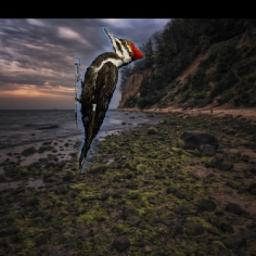Woodpecker: (74, 27, 144, 179)
